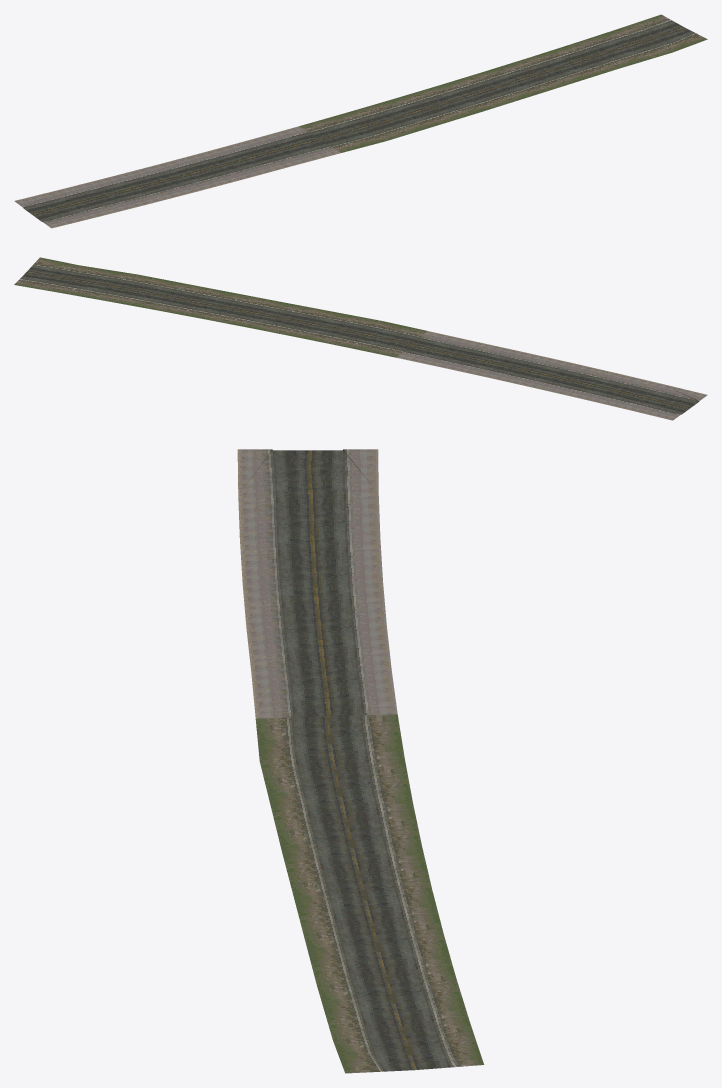
The model's file is lodcunte_roads59.obj.
3 views of the same model, one above another, from view 1: azimuth 30°, elevation 25°; view 2: azimuth 150°, elevation 25°; view 3: azimuth 270°, elevation 25° (orthographic). The views are drawn at different scales.
Parts seen in each view (by area): view 1: LODcunte_roads59; view 2: LODcunte_roads59; view 3: LODcunte_roads59.
Boxes of the visible parts, box(x1,y1,x2,y2) form: LODcunte_roads59: box(14, 14, 707, 228); LODcunte_roads59: box(14, 257, 707, 420); LODcunte_roads59: box(237, 449, 484, 1073).
Bounding box in the file's own units: 211 × 0.4196 × 35.1.
Materials: 2 (2 with a texture image).
